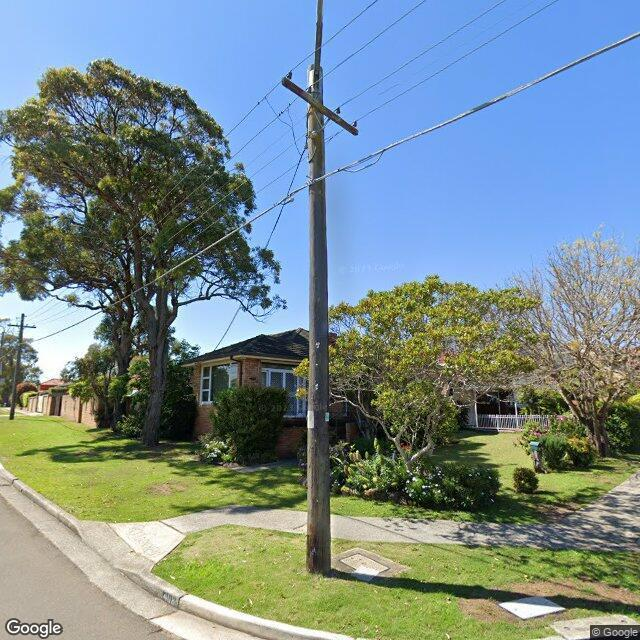crossarm: (282, 75, 359, 138), (6, 323, 36, 329)
timber-pole: (307, 63, 331, 572), (8, 313, 26, 419)
